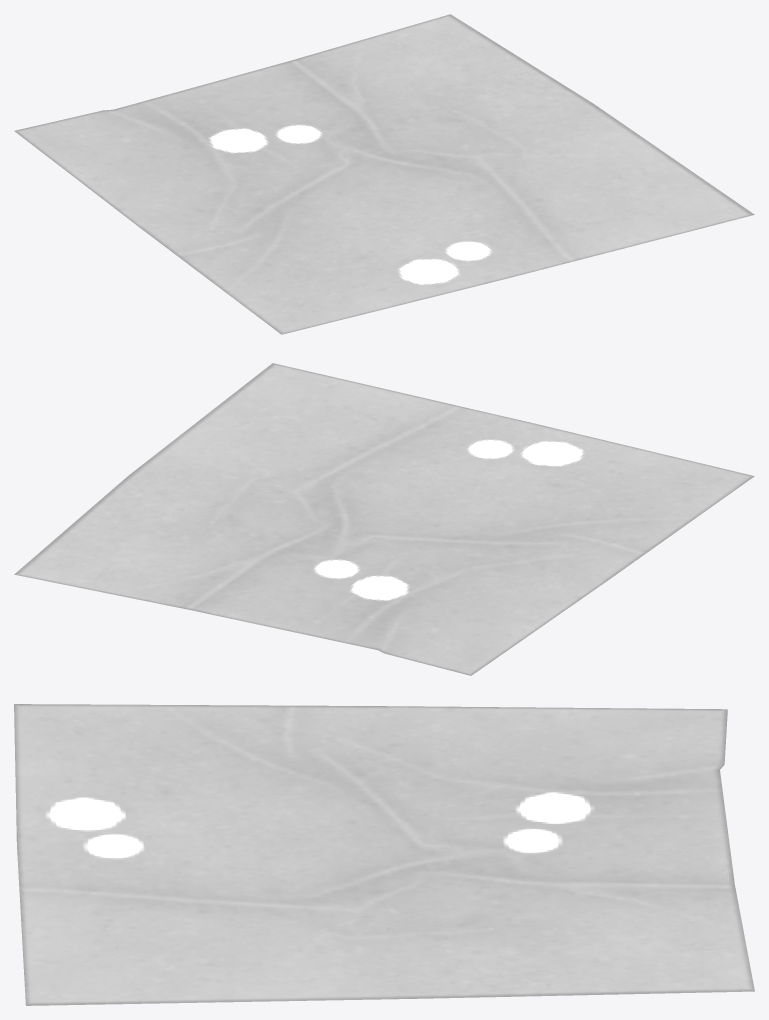
Rendered from Pfb_Canvas_Ground_2x2.fbx.
3 views of the same model, one above another, from view 1: azimuth 30°, elevation 25°; view 2: azimuth 150°, elevation 25°; view 3: azimuth 270°, elevation 25° (orthographic). The views are drawn at different scales.
Visible parts, largest first — view 1: Mat_Canvas_Ground_White; view 2: Mat_Canvas_Ground_White; view 3: Mat_Canvas_Ground_White.
Boxes of the visible parts, <box> form: Mat_Canvas_Ground_White: <box>14,14,754,334</box>; Mat_Canvas_Ground_White: <box>14,363,754,675</box>; Mat_Canvas_Ground_White: <box>14,704,754,1005</box>.
Bounding box in the file's own units: 1.97 × 0.00538 × 2.04.
Materials: 1 (1 with a texture image).
